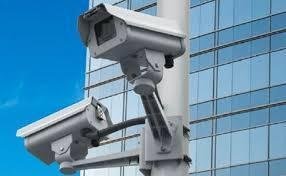tutu: (18, 100, 119, 165), (78, 6, 187, 61)
